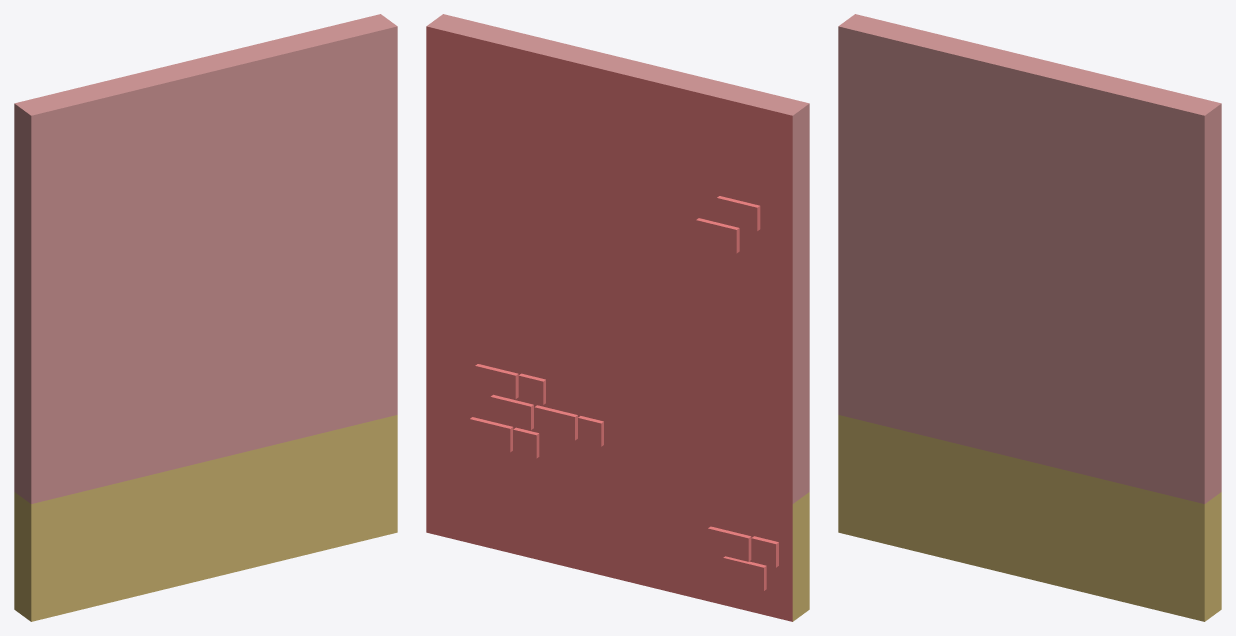
The model's file is wall4.fbx.
3 renders of one model, left to right at view 1: azimuth 30°, elevation 25°; view 2: azimuth 150°, elevation 25°; view 3: azimuth 330°, elevation 25°, orthographic.
Visible parts, largest first — view 1: wall4; view 2: wall4; view 3: wall4.
Boxes of the visible parts, x1,y1,x2,y2 form: wall4: (14, 14, 397, 621); wall4: (426, 14, 809, 621); wall4: (838, 14, 1221, 621).
Bounding box in the file's own units: 211 × 279 × 19.69.
